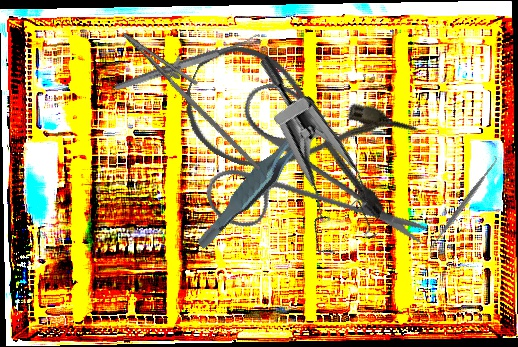Cannula: (168, 31, 421, 226)
Iris Scissors: (178, 50, 431, 304)
Needle Holder: (107, 20, 285, 172)
Spatula Surgical: (422, 154, 504, 257)
Speculum: (195, 53, 412, 273)
Surgical Spoon: (113, 33, 263, 93)
Tissue Forceps: (174, 108, 351, 251)
